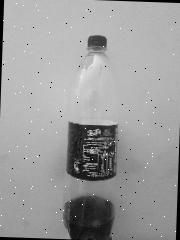plastic: (62, 34, 123, 240)
